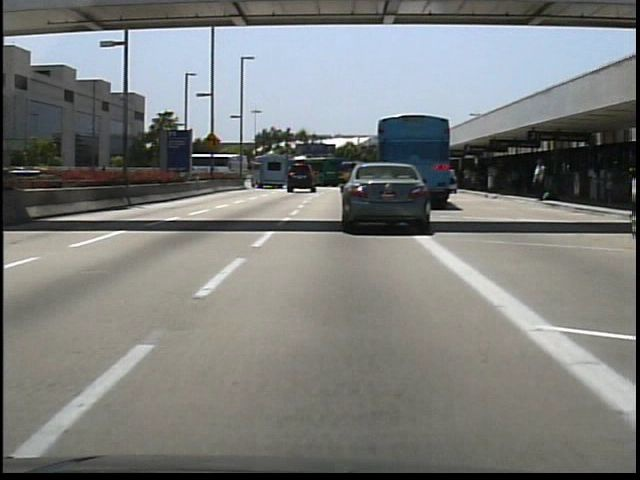person: (531, 156, 550, 203)
